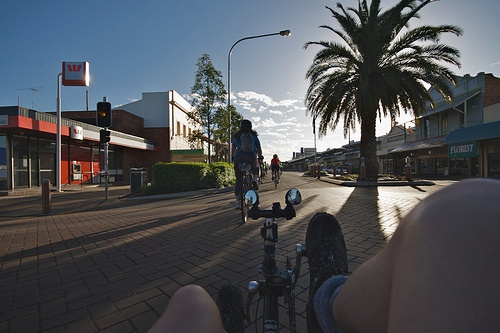non-vehicle: (244, 186, 305, 329), (239, 166, 249, 221), (268, 166, 283, 189)
